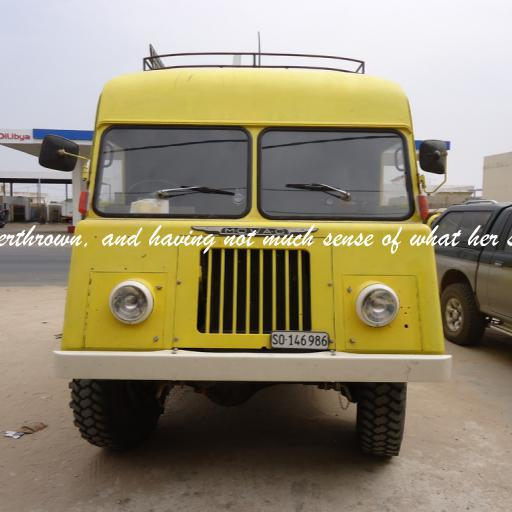Brush Script MT: (0, 225, 512, 254)
